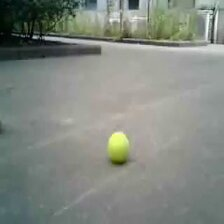tennis: (107, 132, 130, 162)
